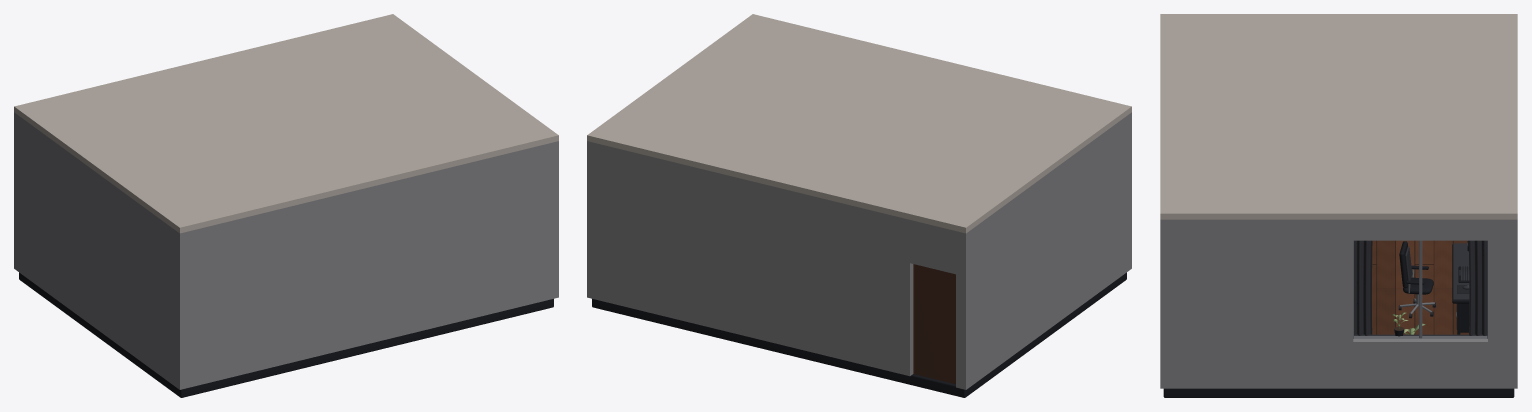
File: cozy-room.glb
3 renders of one model, left to right at view 1: azimuth 30°, elevation 25°; view 2: azimuth 150°, elevation 25°; view 3: azimuth 270°, elevation 25°, orthographic. The views are drawn at different scales.
Parts seen in each view (by area): view 1: Structural_Ceiling, Structural_South, Structural_West, FloorFoundation, Structural_North; view 2: Structural_Ceiling, Structural_North, Structural_West, FloorFoundation, Door_Batch_PBR_WalnutDoor, Structural_South; view 3: Structural_Ceiling, Structural_East, WalnutFloor, Window_Batch_PBR_CharcoalLinen, FloorFoundation, Structural_North, Structural_South, Window_Batch_PBR_BrushedSteel, GamingDesk_Batch_PBR_GraphiteEdge, GamingChair_Batch_PBR_CharcoalFurniture, GamingDesk_Batch_PBR_CharcoalFurniture.
Boxes of the visible parts, x1,y1,x2,y2 form: Structural_Ceiling: (14,14,558,233); Structural_South: (176,141,558,389); Structural_West: (17,115,176,387); FloorFoundation: (19,272,553,397); Structural_North: (14,112,17,270); Structural_Ceiling: (587,14,1131,233); Structural_North: (587,141,969,389); Structural_West: (969,115,1128,387); FloorFoundation: (592,272,1126,397); Door_Batch_PBR_WalnutDoor: (914,264,955,384); Structural_South: (1128,112,1131,270); Structural_Ceiling: (1160,14,1517,219); Structural_East: (1167,219,1510,388); WalnutFloor: (1372,240,1468,334); Window_Batch_PBR_CharcoalLinen: (1354,240,1487,335); FloorFoundation: (1163,388,1514,397); Structural_North: (1511,219,1517,388); Structural_South: (1160,219,1166,388); Window_Batch_PBR_BrushedSteel: (1353,240,1487,338); GamingDesk_Batch_PBR_GraphiteEdge: (1453,243,1469,329); GamingChair_Batch_PBR_CharcoalFurniture: (1399,241,1433,294); GamingDesk_Batch_PBR_CharcoalFurniture: (1452,240,1469,334).
Bounding box in the file's own units: 8.24 × 3.59 × 6.24.
Materials: 24 (3 with a texture image).
